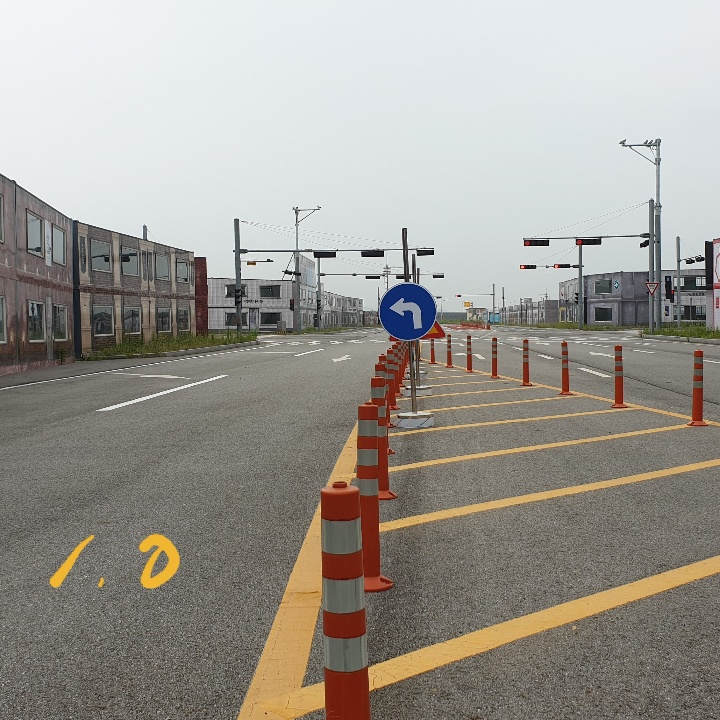left: (384, 295, 430, 335)
